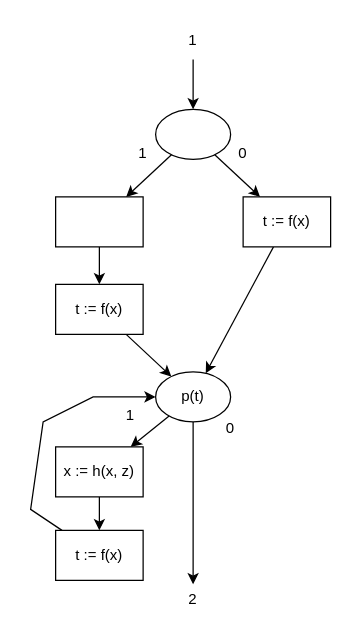
The diagram is 353 pixels wide and 639 high, and some of its shapes have lost their labels. Each missing label, with the centre of its shape:
"q(y, z)" goes at point 192,133.
"z := g(y)" goes at point 98,221.
